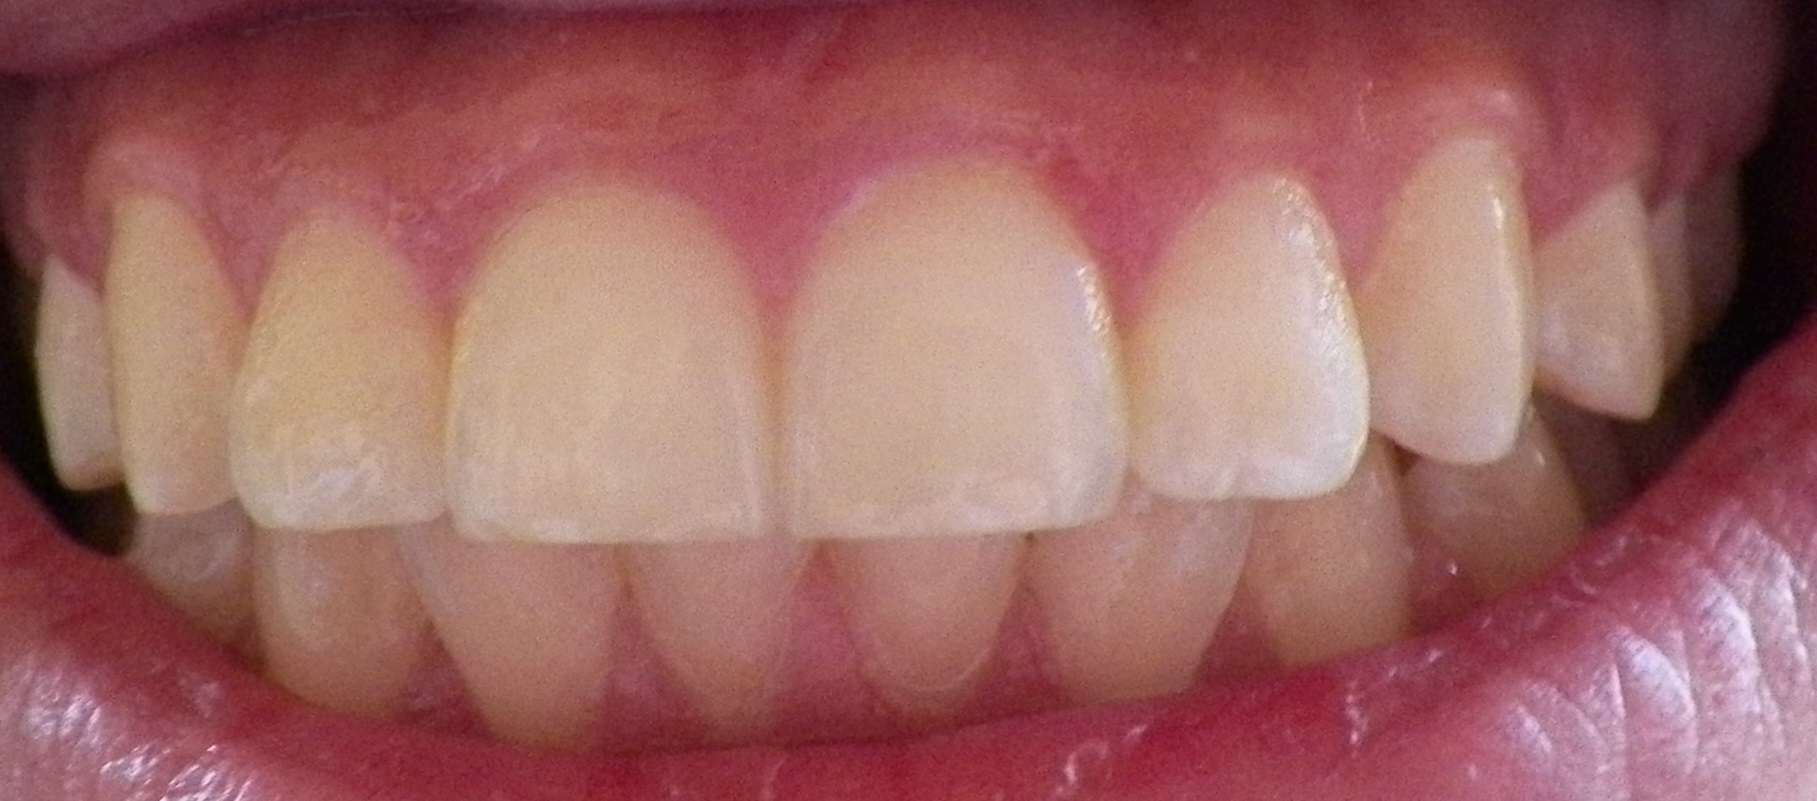boca: (27, 107, 1725, 742)
